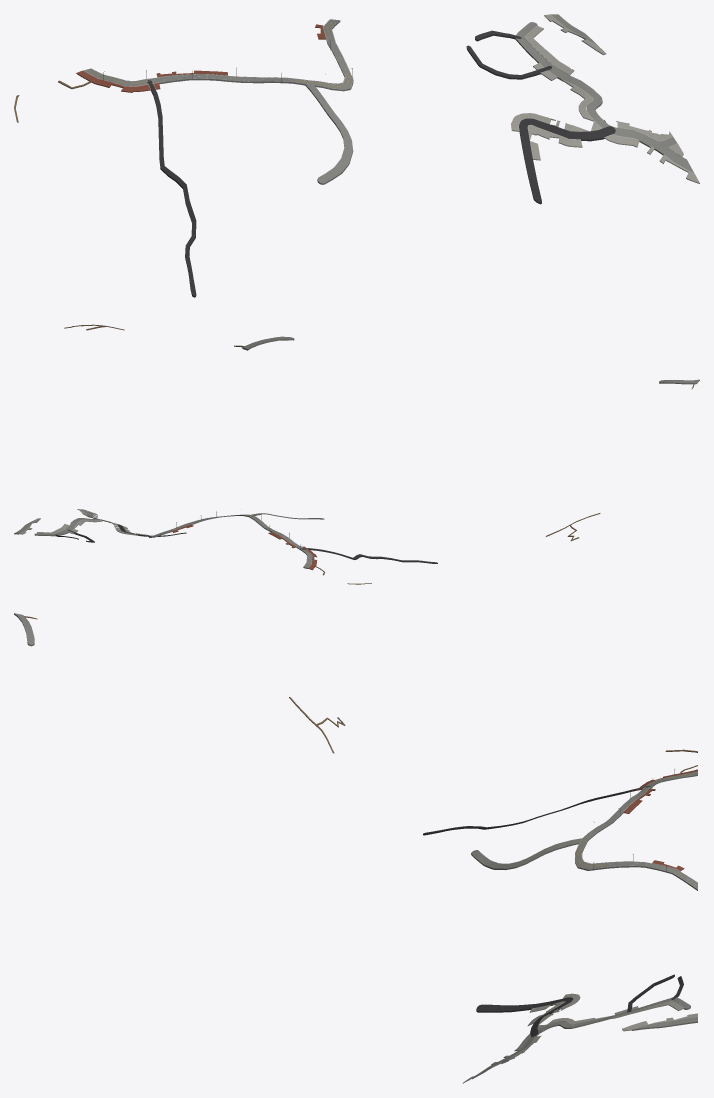
The picture shows the model from 3 angles, top to bottom: view 1: azimuth 30°, elevation 25°; view 2: azimuth 150°, elevation 25°; view 3: azimuth 270°, elevation 25°; orthographic projection. The views are drawn at different scales.
Size of the model in its own units: 587 by 157 by 569.
